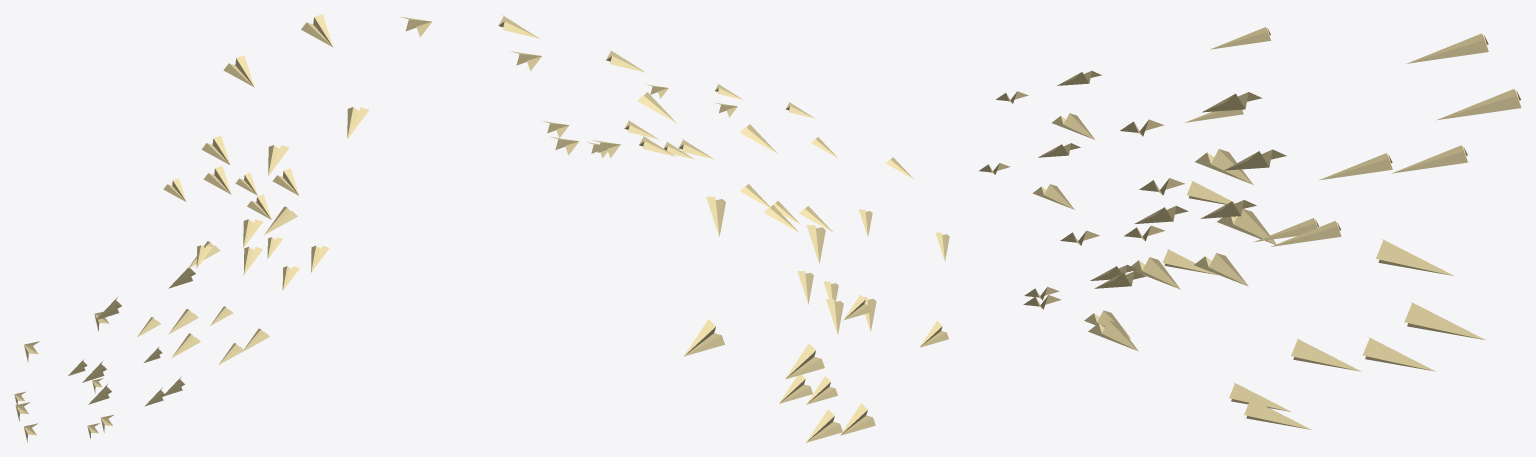
Rendered from planes.fbx.
The picture shows the model from 3 angles, left to right: view 1: azimuth 30°, elevation 25°; view 2: azimuth 150°, elevation 25°; view 3: azimuth 270°, elevation 25°; orthographic projection. The views are drawn at different scales.
Visible parts, largest first — view 1: Plane_1_3_4, Plane_1_3_3, Plane_1_3_5, Plane_1_4_4, Plane_1_3, Plane_1_4_3, Plane_1_3_2; view 2: Plane_1_2_4, Plane_1_2_3, Plane_1_2_5; view 3: Plane_1_2_4, Plane_1_2_3, Plane_1_3_4, Plane_1_3_3, Plane_1_2_5, Plane_1_2, Plane_1_1_4, Plane_1_3_5, Plane_1_1_3, Plane_1_2_2, Plane_1_3, Plane_1_1_5 (+7 smaller).
Boxes of the visible parts, left/top/right/bottom form: Plane_1_3_4: left=301, top=14, right=332, bottom=46; Plane_1_3_3: left=223, top=55, right=254, bottom=87; Plane_1_3_5: left=201, top=135, right=230, bottom=165; Plane_1_4_4: left=347, top=107, right=369, bottom=139; Plane_1_3: left=203, top=166, right=231, bottom=194; Plane_1_4_3: left=268, top=145, right=289, bottom=176; Plane_1_3_2: left=272, top=168, right=299, bottom=195; Plane_1_2_4: left=684, top=319, right=724, bottom=356; Plane_1_2_3: left=785, top=343, right=824, bottom=379; Plane_1_2_5: left=806, top=409, right=842, bottom=442; Plane_1_2_4: left=1404, top=302, right=1485, bottom=339; Plane_1_2_3: left=1376, top=239, right=1453, bottom=275; Plane_1_3_4: left=1436, top=89, right=1521, bottom=120; Plane_1_3_3: left=1406, top=33, right=1488, bottom=63; Plane_1_2_5: left=1362, top=337, right=1435, bottom=371; Plane_1_2: left=1291, top=338, right=1361, bottom=371; Plane_1_1_4: left=1217, top=209, right=1276, bottom=244; Plane_1_3_5: left=1391, top=145, right=1467, bottom=173; Plane_1_1_3: left=1195, top=149, right=1253, bottom=184; Plane_1_2_2: left=1244, top=398, right=1311, bottom=429; Plane_1_3: left=1319, top=153, right=1392, bottom=180; Plane_1_1_5: left=1194, top=253, right=1248, bottom=286.
Size of the model in its own units: 3495 by 2615 by 2125.
